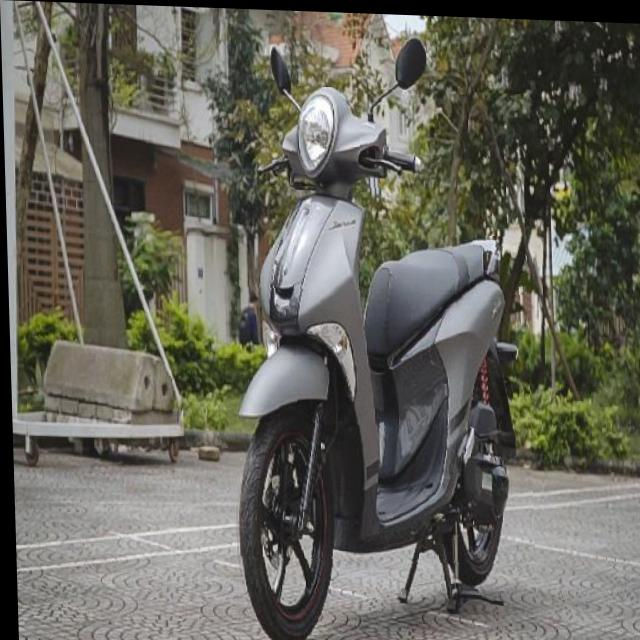All: (218, 81, 534, 640)
Head: (256, 87, 425, 188)
Tail: (450, 231, 511, 308)
